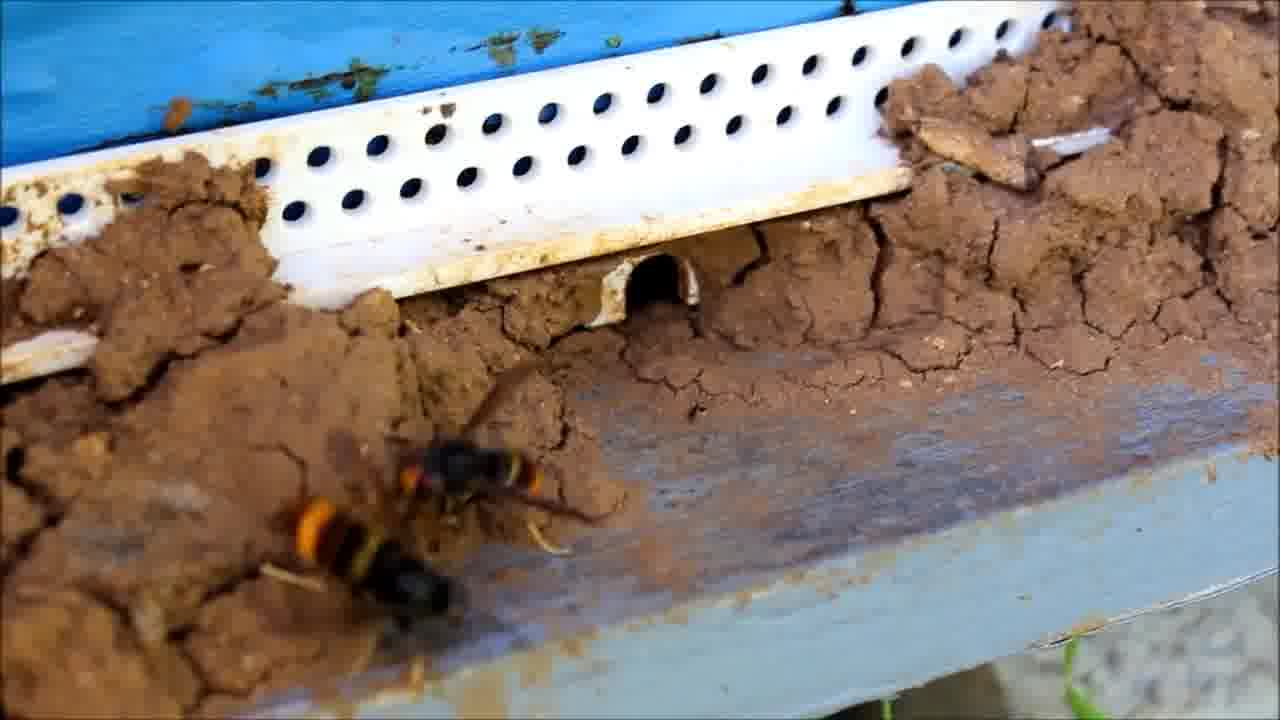hornet: (271, 490, 475, 653), (390, 398, 589, 536)
